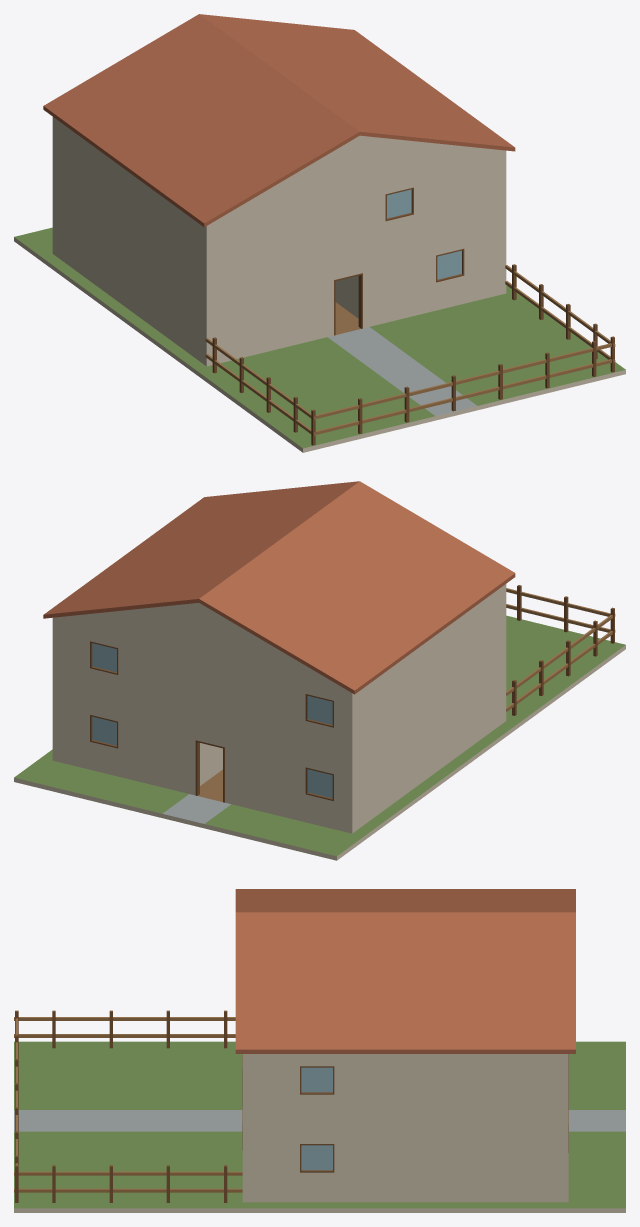
The model's file is house_alfa_static.fbx.
The picture shows the model from 3 angles, top to bottom: view 1: azimuth 30°, elevation 25°; view 2: azimuth 150°, elevation 25°; view 3: azimuth 270°, elevation 25°; orthographic projection. The views are drawn at different scales.
Visible parts, largest first — view 1: HouseShell, Roof_Continuous, Gable_Back, Fence_Back_Rail.001, Fence_Back_Rail, Window_7_Pane, Window_6_Pane; view 2: HouseShell, Roof_Continuous, Gable_Front, Window_0_Pane, Window_1_Pane, Window_3_Pane, Window_4_Pane, Fence_Rail.001, Fence_Rail; view 3: HouseShell, Roof_Continuous, Fence_Rail.002, Fence_Rail.003, Fence_Rail, Fence_Rail.001, Window_2_Pane, Window_5_Pane.
Part boxes in pixels (x1,y1,x2,y2): HouseShell: [14, 117, 625, 452]; Roof_Continuous: [43, 14, 515, 227]; Gable_Back: [226, 135, 493, 214]; Fence_Back_Rail.001: [315, 343, 611, 418]; Fence_Back_Rail: [315, 359, 611, 434]; Window_7_Pane: [387, 189, 411, 218]; Window_6_Pane: [437, 250, 461, 279]; HouseShell: [14, 584, 625, 860]; Roof_Continuous: [43, 481, 515, 694]; Gable_Front: [65, 603, 333, 682]; Window_0_Pane: [308, 769, 332, 798]; Window_1_Pane: [92, 716, 116, 745]; Window_3_Pane: [308, 696, 332, 724]; Window_4_Pane: [92, 643, 116, 672]; Fence_Rail.001: [506, 614, 615, 695]; Fence_Rail: [506, 630, 615, 711]; HouseShell: [14, 1041, 625, 1212]; Roof_Continuous: [235, 889, 575, 1053]; Fence_Rail.002: [14, 1188, 242, 1192]; Fence_Rail.003: [14, 1171, 242, 1175]; Fence_Rail: [14, 1034, 235, 1037]; Fence_Rail.001: [14, 1017, 235, 1020]; Window_2_Pane: [301, 1145, 332, 1170]; Window_5_Pane: [301, 1067, 332, 1092].
Bounding box in the file's own units: 13.8 × 8.38 × 21.4.
